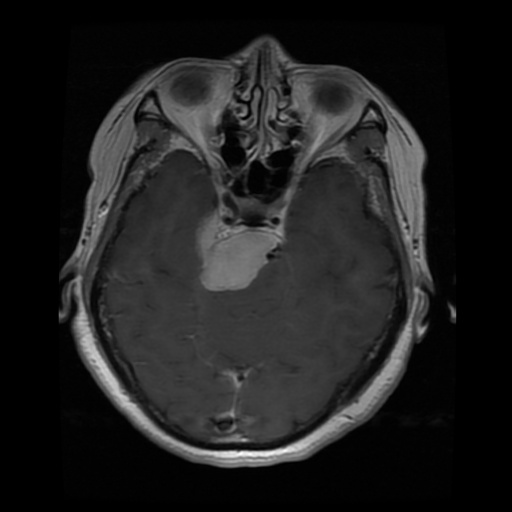meningioma: (194, 214, 280, 289)
